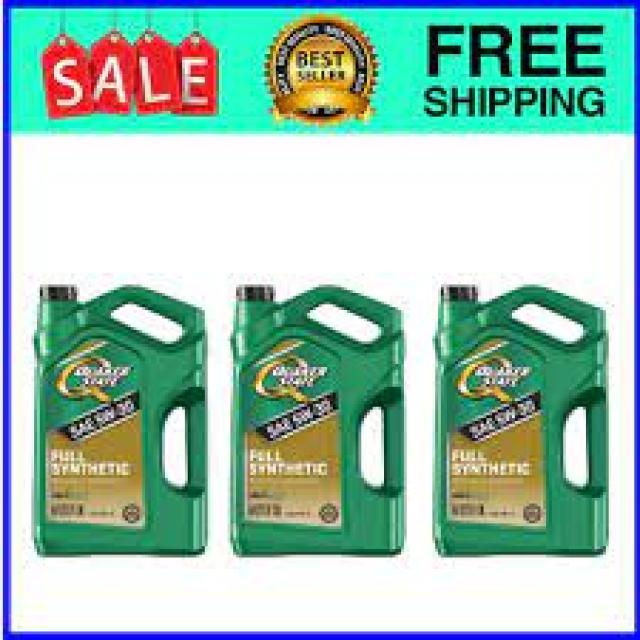motor_oil: (432, 270, 625, 585), (22, 262, 214, 567), (226, 273, 414, 570)
